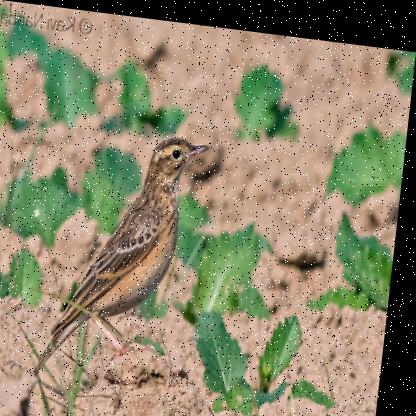Burung: (38, 119, 215, 390)
